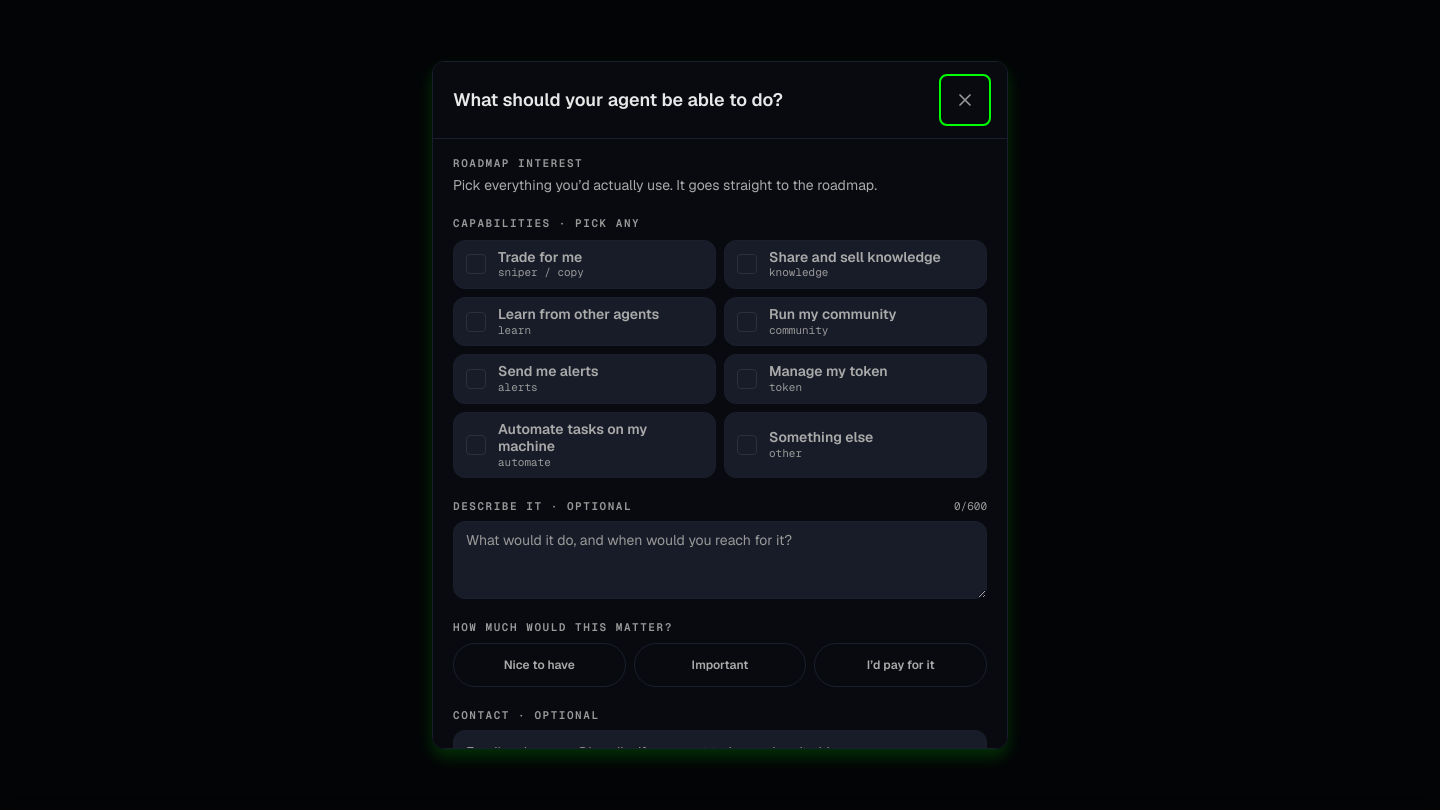
Test: InterestDialog › requires a line when "Something else" is picked, and counts the description
Step 1. Click the checkbox with test id "interest-cap-other" → (856, 445), box [724, 412, 987, 478]
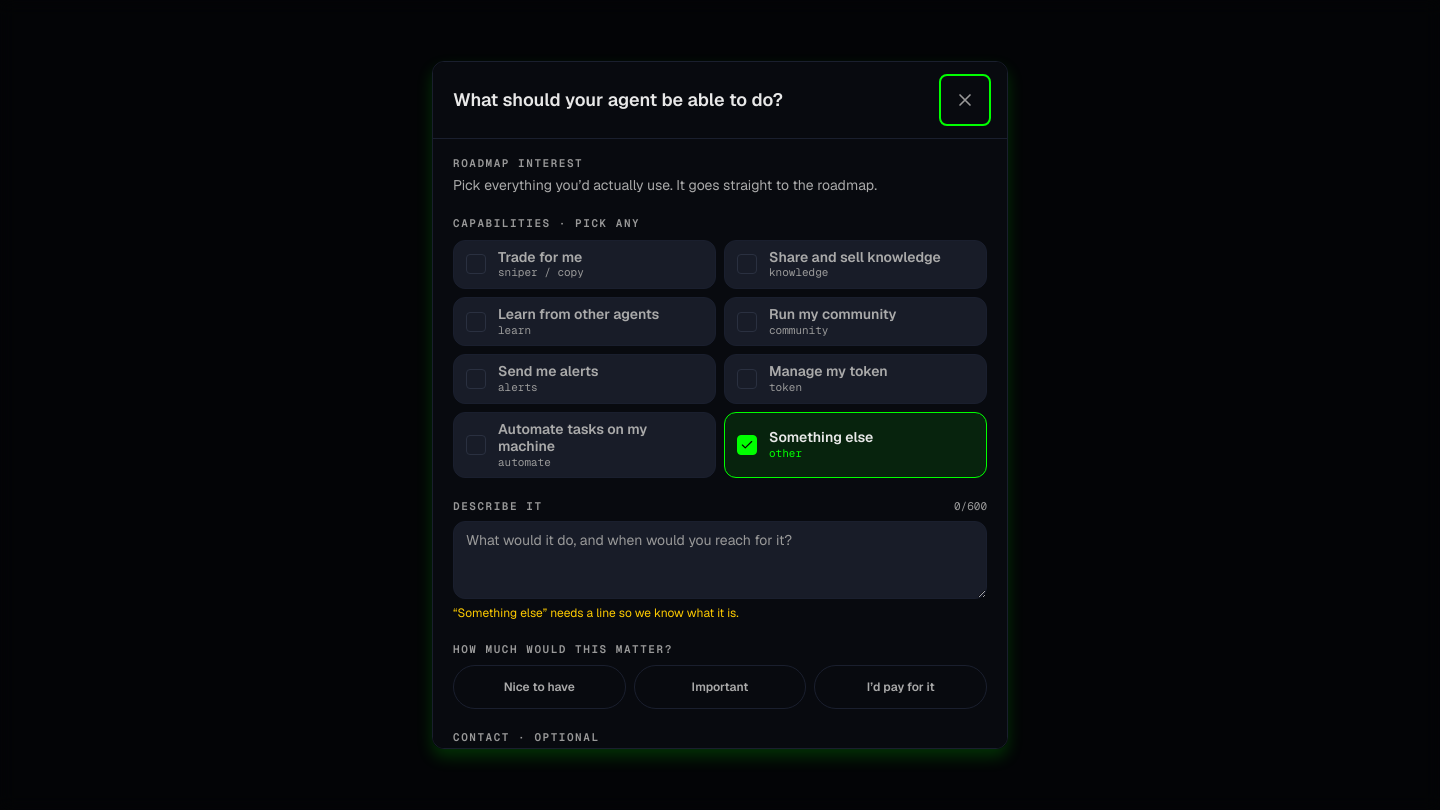
Step 2. Click the radio button with test id "interest-priority-nice" → (539, 687), box [453, 665, 626, 709]
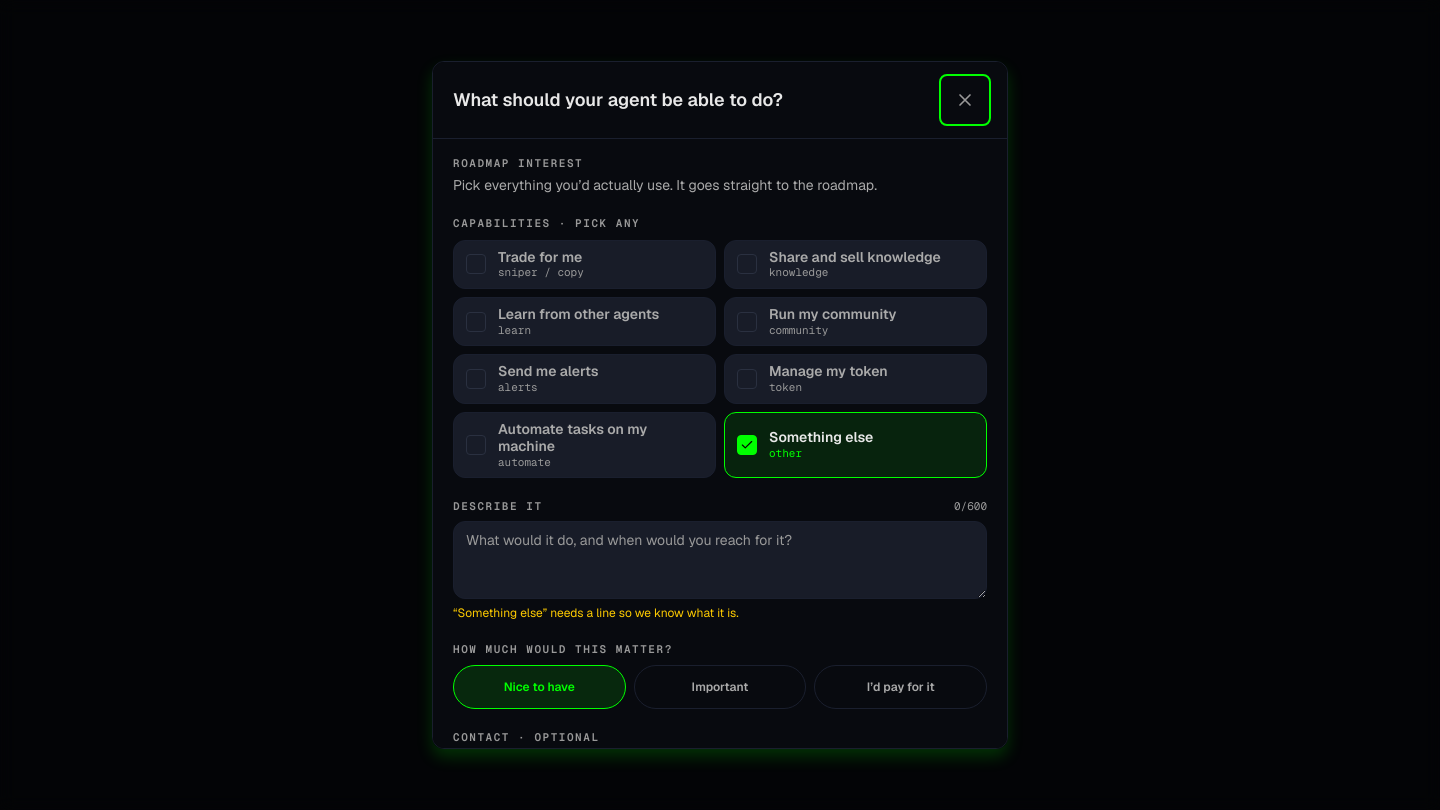
expect the text "“Something else” needs a line so we know what it is." is shown: met, box [453, 605, 739, 621]
Step 3. Type "Book my flights" into the text box with test id "interest-description" → (720, 560), box [453, 521, 987, 599]
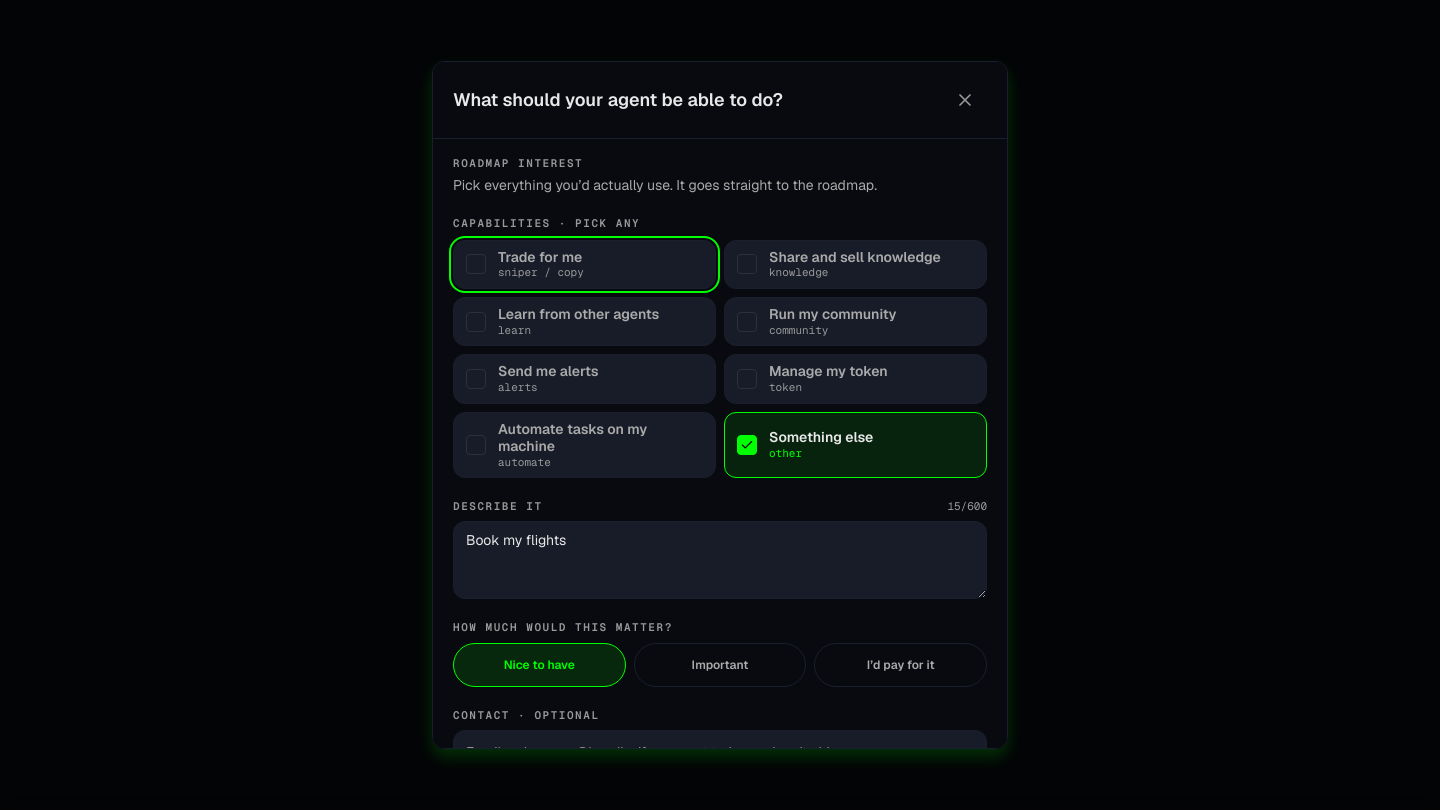
expect the text with test id "interest-describe-hint" is gone: met
expect the text with test id "interest-counter" reads "15/600": met, box [947, 498, 987, 515]
